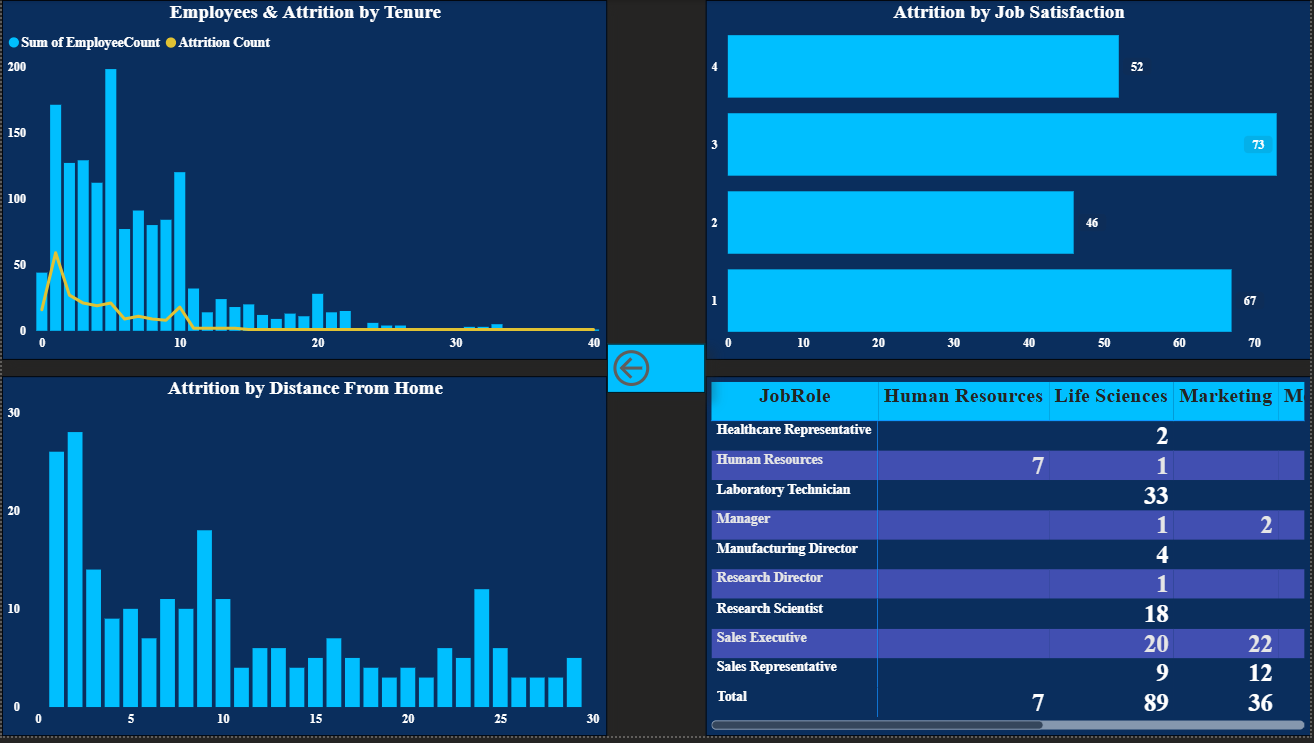

The dashboard page shown, as its layout file describes it:
{"tool":"powerbi","page":{"name":"EMPLOYEE INSIGHTS & RETENTION","canvas":[1280,720],"ordinal":2},"visuals":[{"type":"lineClusteredColumnComboChart","title":"Employees & Attrition by Tenure","fields":{"Y":["Sum(HR_Analytics.EmployeeCount)"],"Category":["HR_Analytics.YearsAtCompany"],"Y2":["HR_Analytics.Attrition Count"]},"box":[0,0,592,352],"z":0},{"type":"columnChart","title":"Attrition by Distance From Home","fields":{"Y":["HR_Analytics.Attrition Count"],"Category":["HR_Analytics.DistanceFromHome"]},"box":[0,368,592,352],"z":1000},{"type":"barChart","title":"Attrition by Job Satisfaction","fields":{"Y":["HR_Analytics.Attrition Count"],"Category":["HR_Analytics.JobSatisfaction"]},"box":[688,0,592,352],"z":2000},{"type":"pivotTable","fields":{"Rows":["HR_Analytics.JobRole"],"Columns":["HR_Analytics.EducationField"],"Values":["HR_Analytics.Attrition Count"]},"box":[688,368,592,352],"z":3000},{"type":"actionButton","box":[592,336,96,48],"z":3001}]}

Visuals, with their boxes in screenshot pixels (x1, y1, x2, y2), scaled from the page's 1280x720 canvas onto the 1314x743 screenshot:
"Employees & Attrition by Tenure" lineClusteredColumnComboChart: 0:0:608:363
"Attrition by Distance From Home" columnChart: 0:380:608:742
"Attrition by Job Satisfaction" barChart: 706:0:1313:363
pivotTable - HR_Analytics.JobRole x HR_Analytics.EducationField: 706:380:1313:742
actionButton: 608:347:706:396
